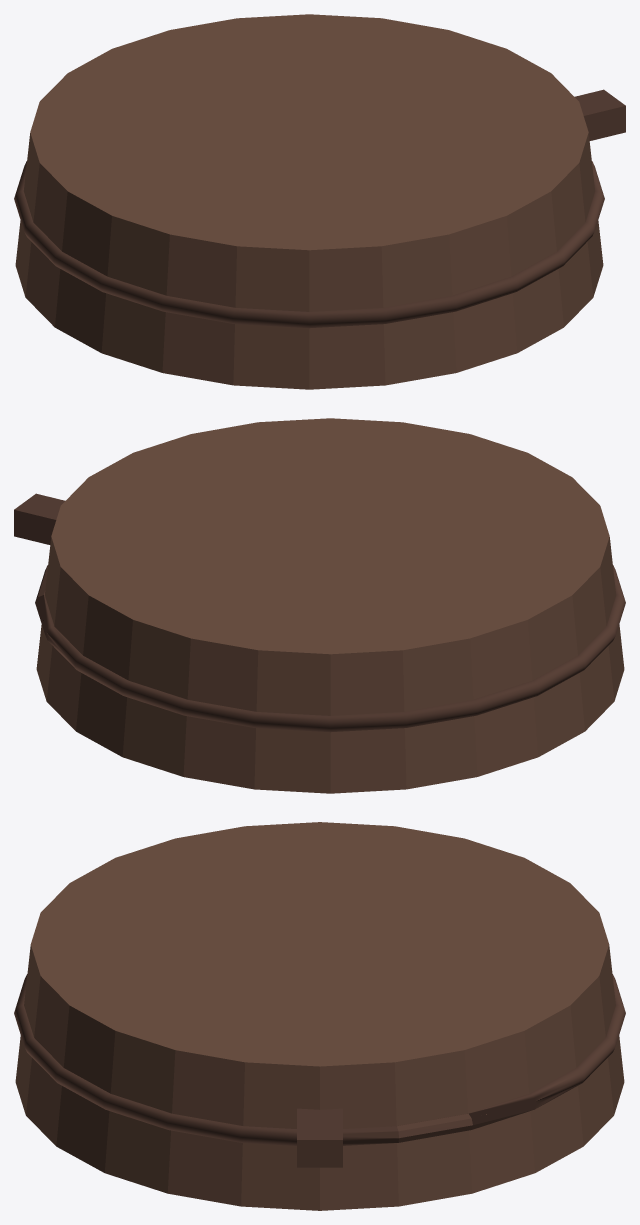
Rendered from bo_doan_tron.obj.
3 renders of one model, top to bottom at view 1: azimuth 30°, elevation 25°; view 2: azimuth 150°, elevation 25°; view 3: azimuth 270°, elevation 25°, orthographic. The views are drawn at different scales.
Size of the model in its own units: 0.441 by 0.1 by 0.402.
